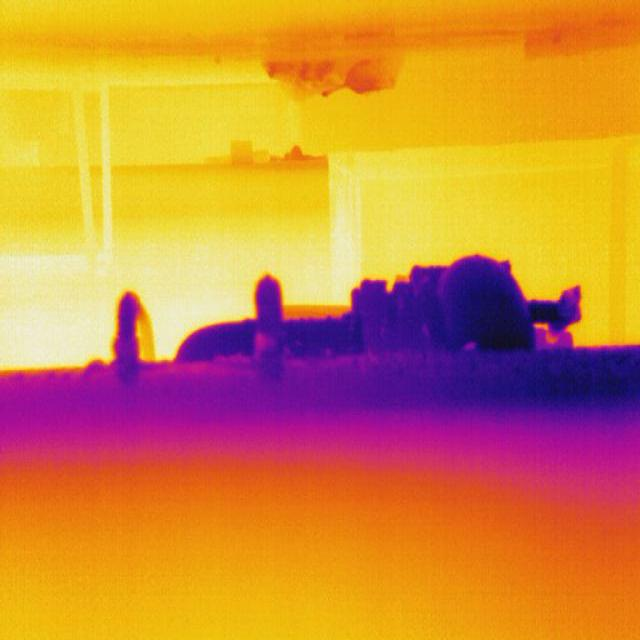leakage: (3, 251, 637, 440)
